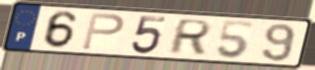5: (216, 18, 257, 61), (129, 14, 169, 55)
6: (43, 10, 81, 50)
9: (258, 22, 297, 63)
P: (80, 11, 126, 52)
R: (165, 18, 215, 56)
